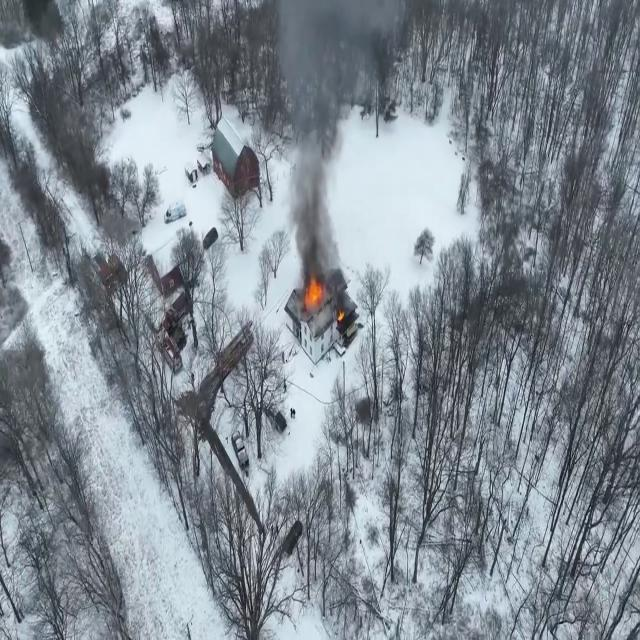Fire: (302, 265, 328, 319)
Smoke: (276, 0, 371, 243)
